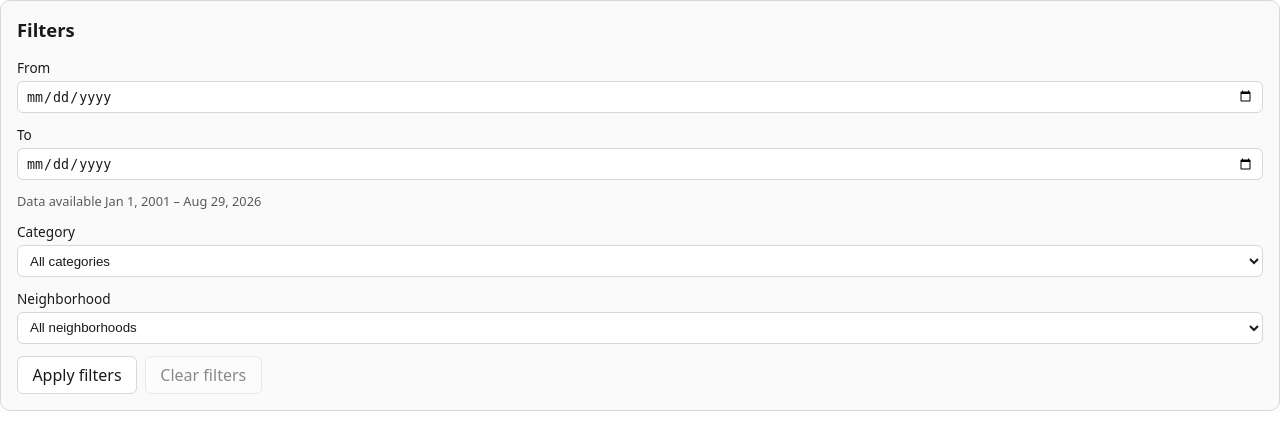
Test case: FiltersPanel Clear filters › enables Clear for an uncommitted draft edit alone
Select "THEFT" in the dropdown labelled "Category". click: point(640, 261)
box: [17, 245, 1263, 277]
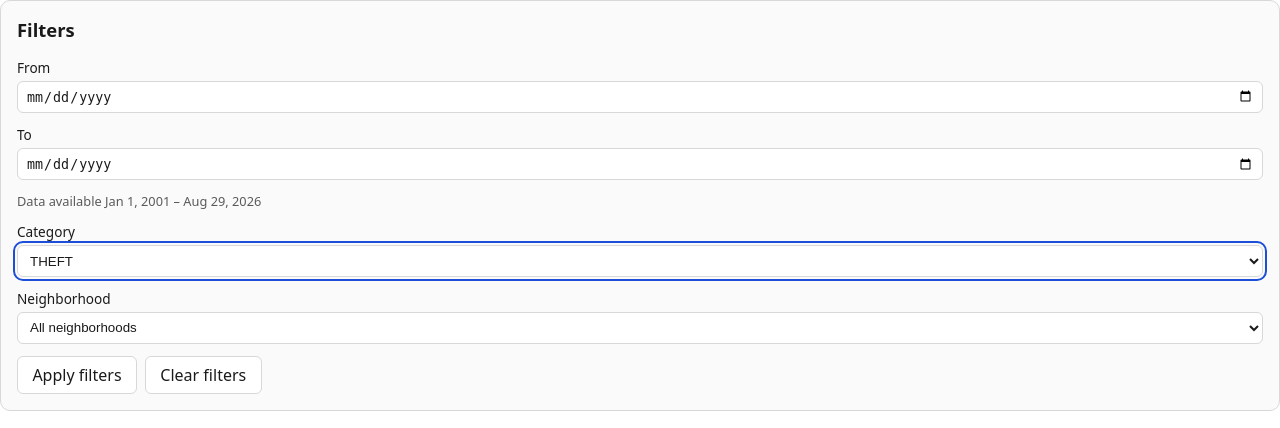
Result: the button "Clear filters" is enabled at [145, 356, 262, 394]
